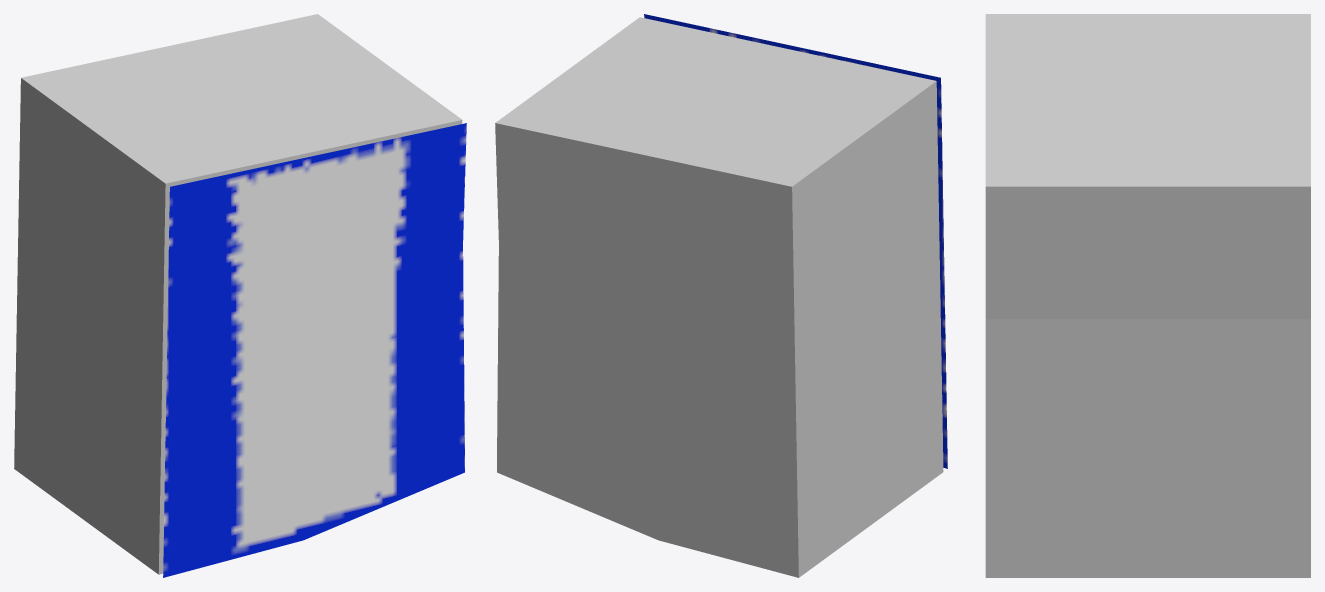
3 renders of one model, left to right at view 1: azimuth 30°, elevation 25°; view 2: azimuth 150°, elevation 25°; view 3: azimuth 270°, elevation 25°, orthographic. The views are drawn at different scales.
Parts seen in each view (by area): view 1: In_4_1, In_4_0; view 2: In_4_0, In_4_1; view 3: In_4_0.
Part boxes in pixels (x1,y1,x2,y2): In_4_1: (163, 123, 466, 577); In_4_0: (14, 14, 462, 574); In_4_0: (495, 17, 943, 577); In_4_1: (644, 14, 947, 468); In_4_0: (985, 14, 1310, 577).
Bounding box in the file's own units: 0.6062 × 0.7428 × 0.515.
Materials: 2 (1 with a texture image).
